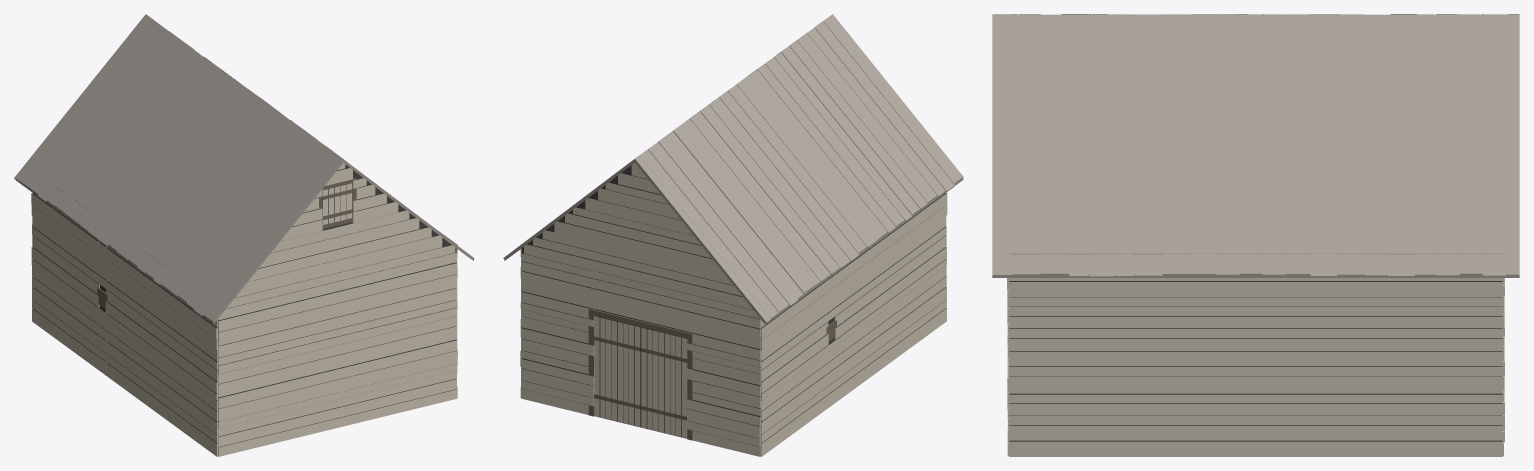
The model's file is recon_1835_north_a2_059__inferred_1835.glb.
3 views of the same model, side by side, from view 1: azimuth 30°, elevation 25°; view 2: azimuth 150°, elevation 25°; view 3: azimuth 270°, elevation 25° (orthographic). The views are drawn at different scales.
Visible parts, largest first — view 1: recon_1835_north_a2_059__inferred_1835; view 2: recon_1835_north_a2_059__inferred_1835; view 3: recon_1835_north_a2_059__inferred_1835.
Part boxes in pixels (x1=…): recon_1835_north_a2_059__inferred_1835: x1=14, y1=14, x2=474, y2=456; recon_1835_north_a2_059__inferred_1835: x1=503, y1=14, x2=963, y2=456; recon_1835_north_a2_059__inferred_1835: x1=992, y1=14, x2=1519, y2=456.
Bounding box in the file's own units: 8.21 × 8.13 × 10.66.
